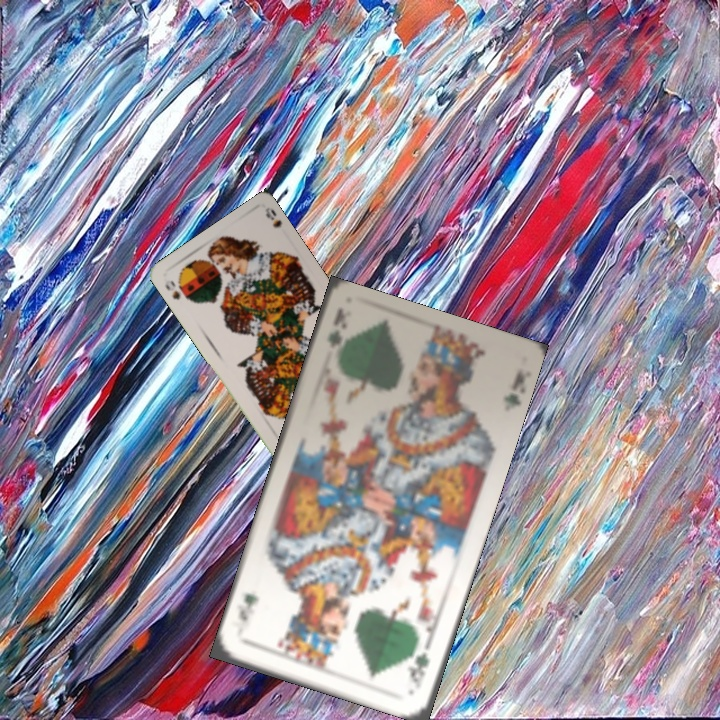GK: (406, 637, 433, 693), (323, 304, 349, 351)
SO: (161, 276, 183, 302)
